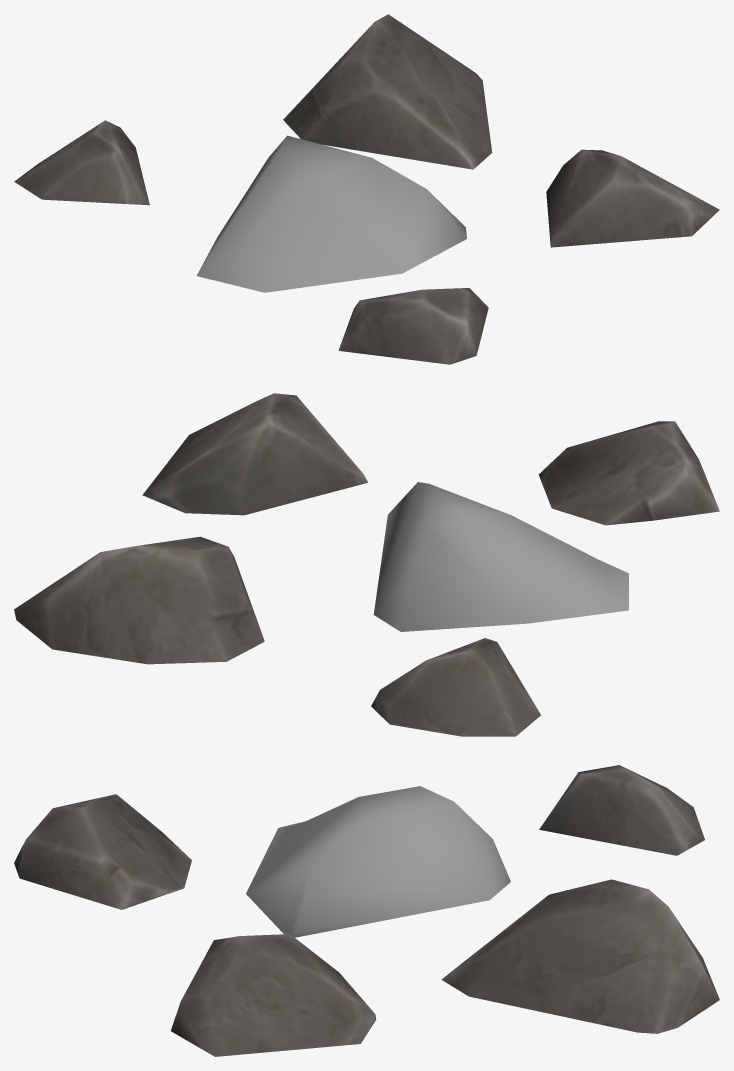
The model's file is GoldOre_Model.fbx.
3 views of the same model, one above another, from view 1: azimuth 30°, elevation 25°; view 2: azimuth 150°, elevation 25°; view 3: azimuth 270°, elevation 25° (orthographic). The views are drawn at different scales.
Visible parts, largest first — view 1: Rock05; view 2: Rock05; view 3: Rock05.
Part boxes in pixels (<box>): Rock05: <box>14,14,719,364</box>; Rock05: <box>14,393,719,736</box>; Rock05: <box>14,765,719,1056</box>.
Bounding box in the file's own units: 4.57 × 5.07 × 0.6971.
